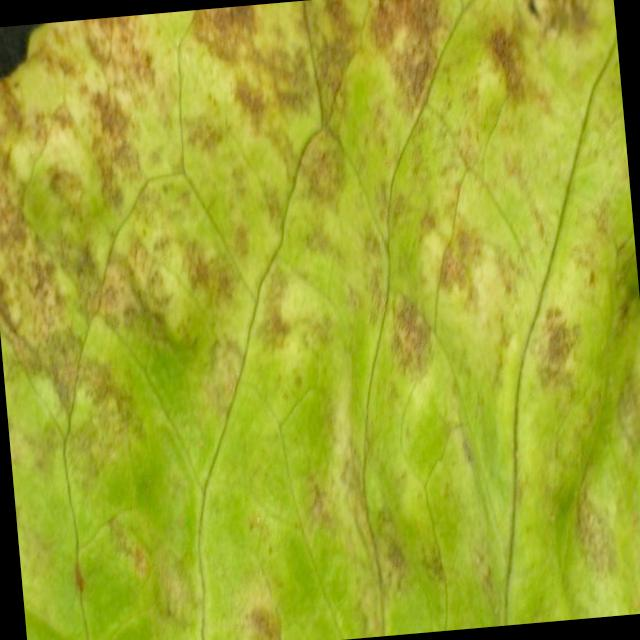Septoria_Blight: (26, 0, 640, 633)
